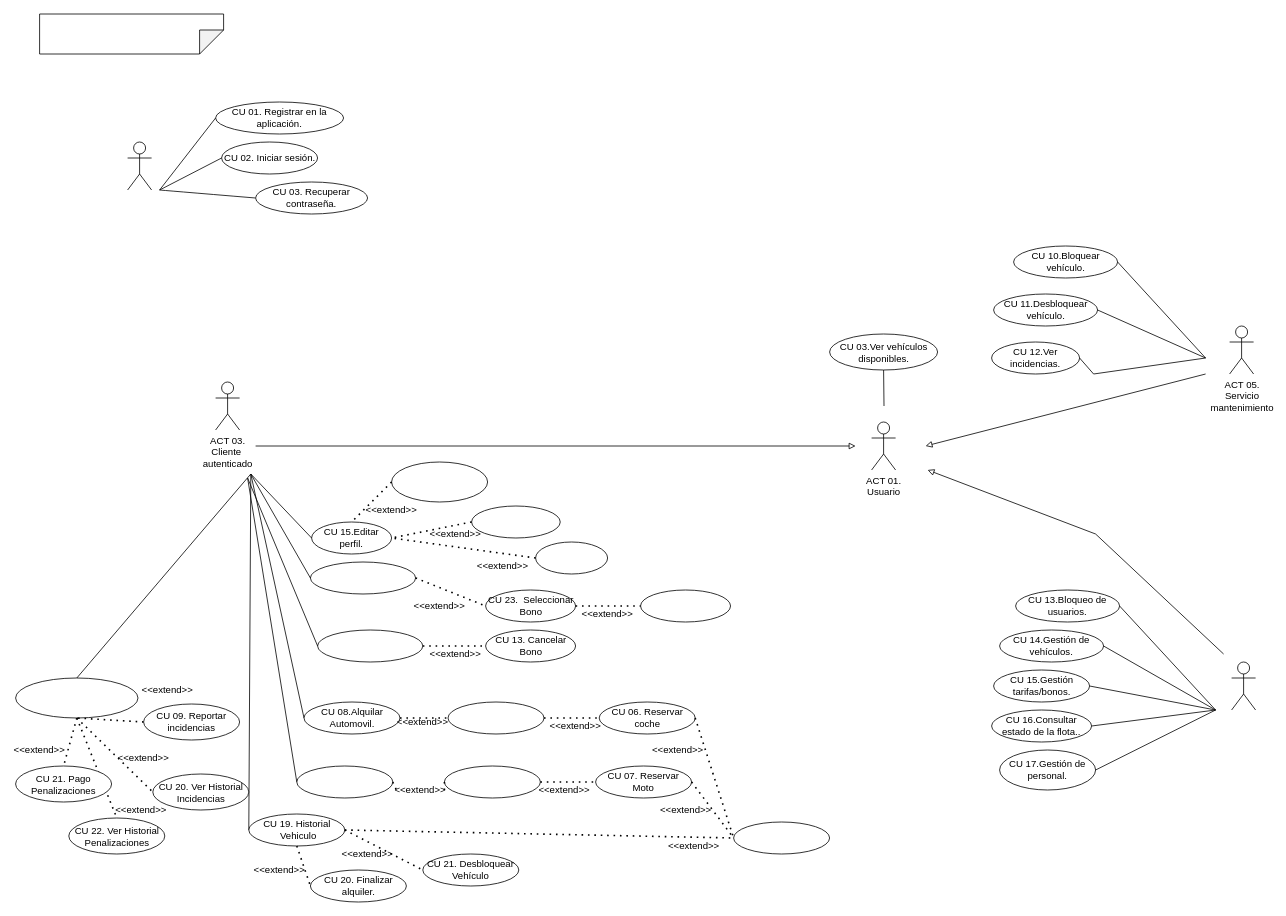
Some shapes in this 1286 by 916 pixel diagram are drawn without their labels. Here are the shapes that lost their labels. From the top down, the centre of each, then its label:
At point (131, 33): "Diagrama de Casos de Uso Inicial Completo (Grueso)".
At point (139, 165): "ACT 02. Cliente no autenticado".
At point (439, 481): "CU 18. Ver Permiso Conducir.".
At point (515, 521): "CU 17. Eliminar cuenta.".
At point (363, 577): "CU 05.Comprar bono.".
At point (571, 557): "CU 16. Cerrar Sesión.".
At point (685, 605): "CU 11. Métodos de pago".
At point (370, 645): "CU 05.Gestionar Bono.".
At point (76, 697): "CU 26. Reportar incidencias y penalizaciones.".
At point (1243, 685): "ACT 04. Administrador".
At point (495, 717): "CU 04. Localizar autos en el mapa".
At point (344, 781): "CU 09.Alquilar Motocicleta.".
At point (492, 781): "CU 05. Localizar Motos en el mapa".
At point (781, 837): "CU 07. Iniciar alquiler.".
